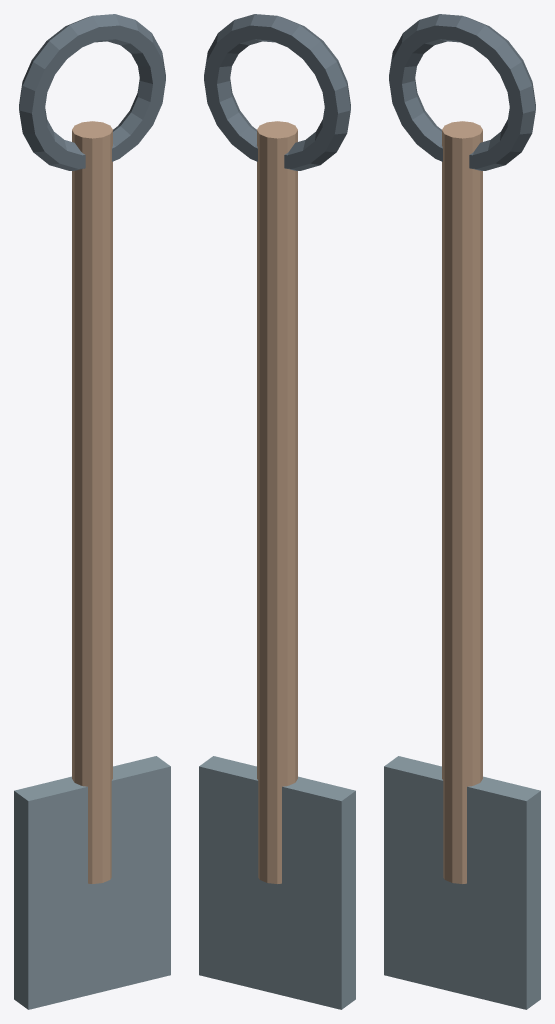
File: shovel.glb
The picture shows the model from 3 angles, left to right: view 1: azimuth 30°, elevation 25°; view 2: azimuth 150°, elevation 25°; view 3: azimuth 330°, elevation 25°; orthographic projection.
Parts seen in each view (by area): view 1: shovel_001, shovel_000, shovel_002; view 2: shovel_001, shovel_000, shovel_002; view 3: shovel_001, shovel_000, shovel_002.
Part boxes in pixels (<box>): shovel_001: <box>14,756,170,1009</box>; shovel_000: <box>72,121,112,883</box>; shovel_002: <box>19,14,165,170</box>; shovel_001: <box>199,756,355,1009</box>; shovel_000: <box>257,121,297,883</box>; shovel_002: <box>204,14,350,170</box>; shovel_001: <box>384,756,540,1009</box>; shovel_000: <box>442,121,482,883</box>; shovel_002: <box>389,14,535,170</box>.
Size of the model in its own units: 0.206 by 1.3 by 0.05.
